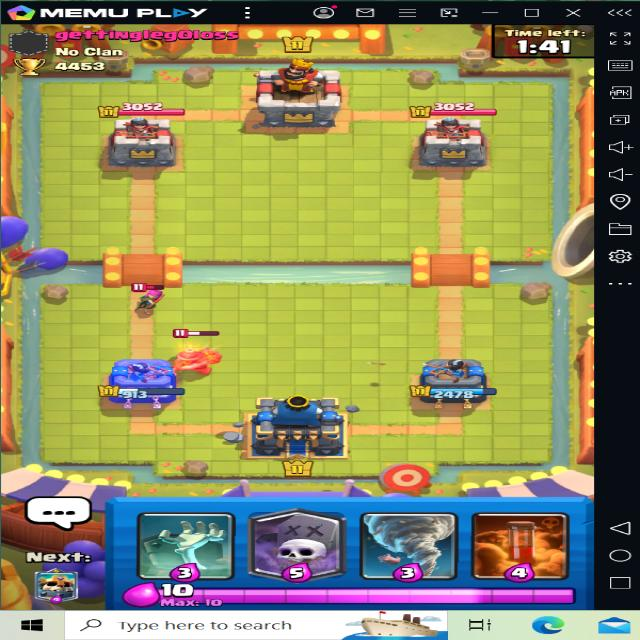archer: (128, 275, 177, 317)
miner: (157, 325, 226, 384)
